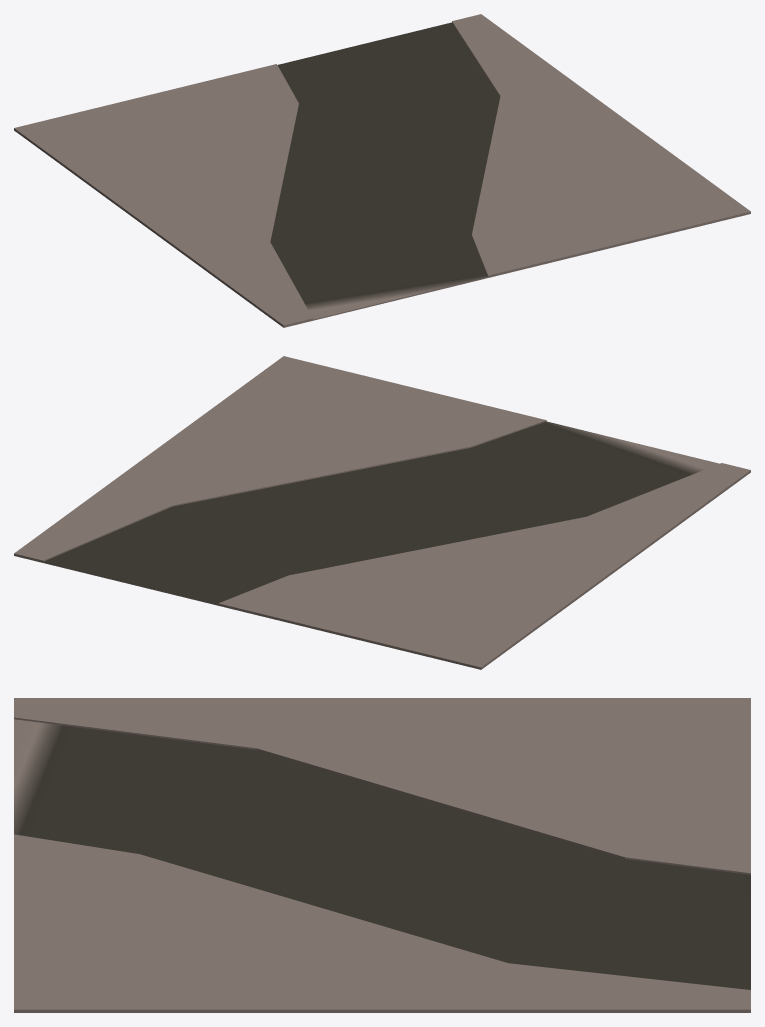
The model's file is Env_2lane_CurveB_col.fbx.
3 views of the same model, one above another, from view 1: azimuth 30°, elevation 25°; view 2: azimuth 150°, elevation 25°; view 3: azimuth 270°, elevation 25° (orthographic). The views are drawn at different scales.
Parts seen in each view (by area): view 1: Env_2lane_CurveB_col; view 2: Env_2lane_CurveB_col; view 3: Env_2lane_CurveB_col.
Boxes of the visible parts, x1,y1,x2,y2 form: Env_2lane_CurveB_col: (14,14,750,327); Env_2lane_CurveB_col: (14,356,750,669); Env_2lane_CurveB_col: (14,698,750,1012).
Size of the model in its own units: 4000 by 20 by 4000.
